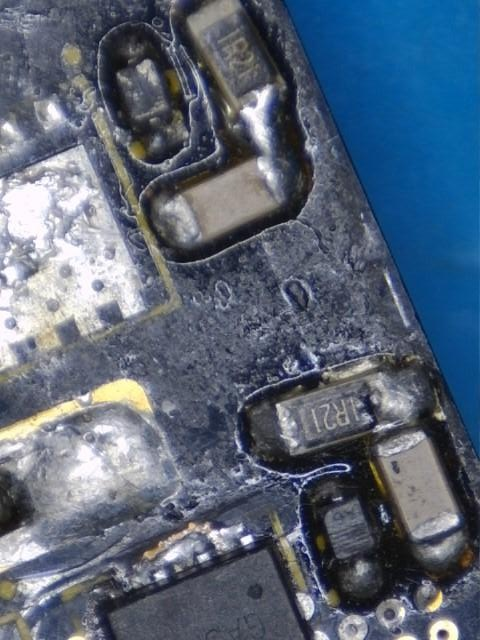pcb_defect: (0, 379, 255, 610), (228, 82, 303, 205), (365, 363, 437, 457)
